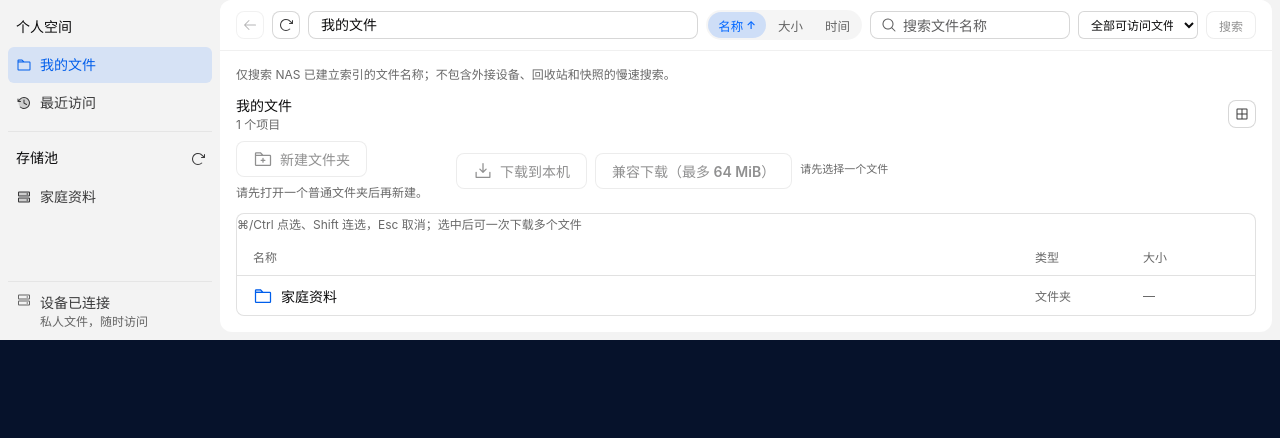
Test: opens a folder result using its returned opaque path, exits search and resets pagination
The image size is (1280, 438).
expect the button named "家庭资料文件夹" is shown: met, box [237,275,1255,315]
Type "目录" into the field labelled "搜索文件名称" at (981, 25), box [903,12,1059,38]
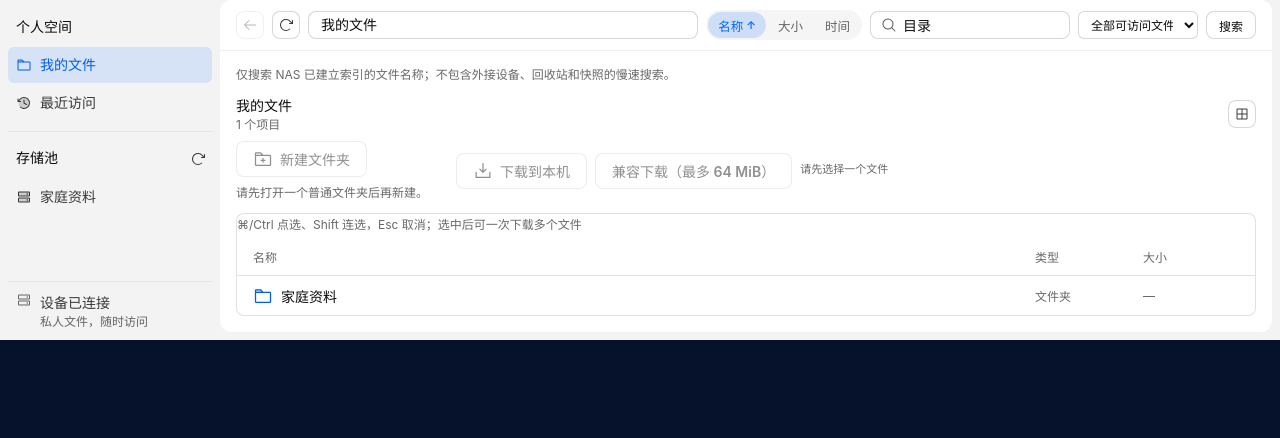
Click the button "搜索" at (1231, 25), box [1206,11,1256,39]
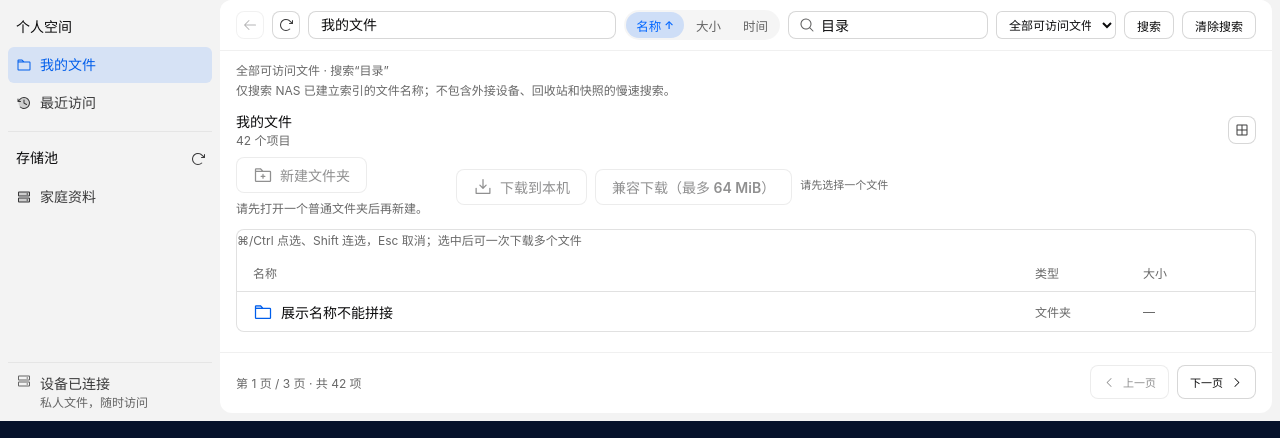
Click the button "展示名称不能拼接 文件夹 —" at (337, 312), box [237,291,1255,331]
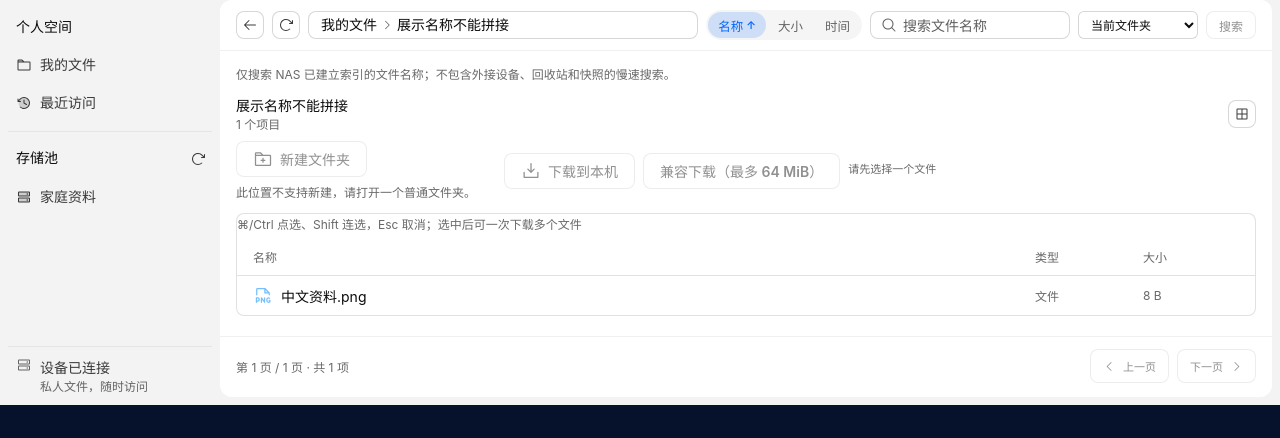
expect the button "清除搜索" is gone: met
expect the field labelled "搜索文件名称" is empty: met, box [903,12,1059,38]
